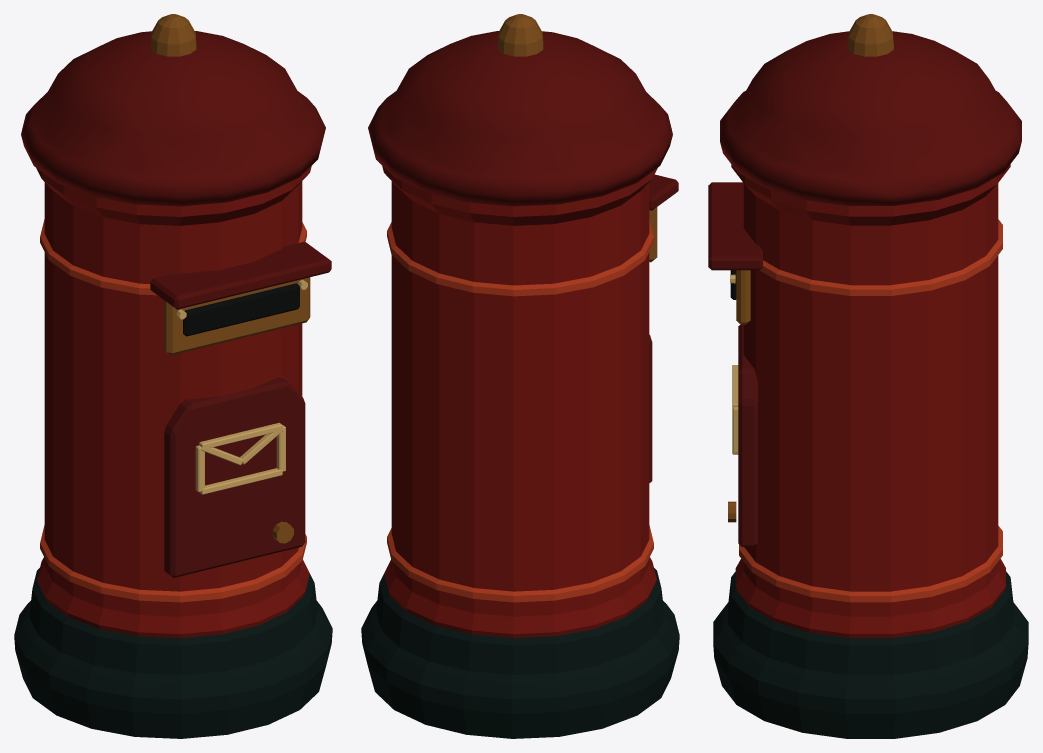
The model's file is SM_VillageStreetPostBox.fbx.
3 renders of one model, left to right at view 1: azimuth 30°, elevation 25°; view 2: azimuth 150°, elevation 25°; view 3: azimuth 270°, elevation 25°, orthographic.
Visible parts, largest first — view 1: SM_VillageStreetPostBox; view 2: SM_VillageStreetPostBox; view 3: SM_VillageStreetPostBox.
Boxes of the visible parts, x1=… form: SM_VillageStreetPostBox: x1=14, y1=14, x2=332, y2=738; SM_VillageStreetPostBox: x1=361, y1=14, x2=679, y2=738; SM_VillageStreetPostBox: x1=708, y1=14, x2=1028, y2=738.
Size of what is drawn, in the model's own units: 60.64 by 61.57 by 140.
